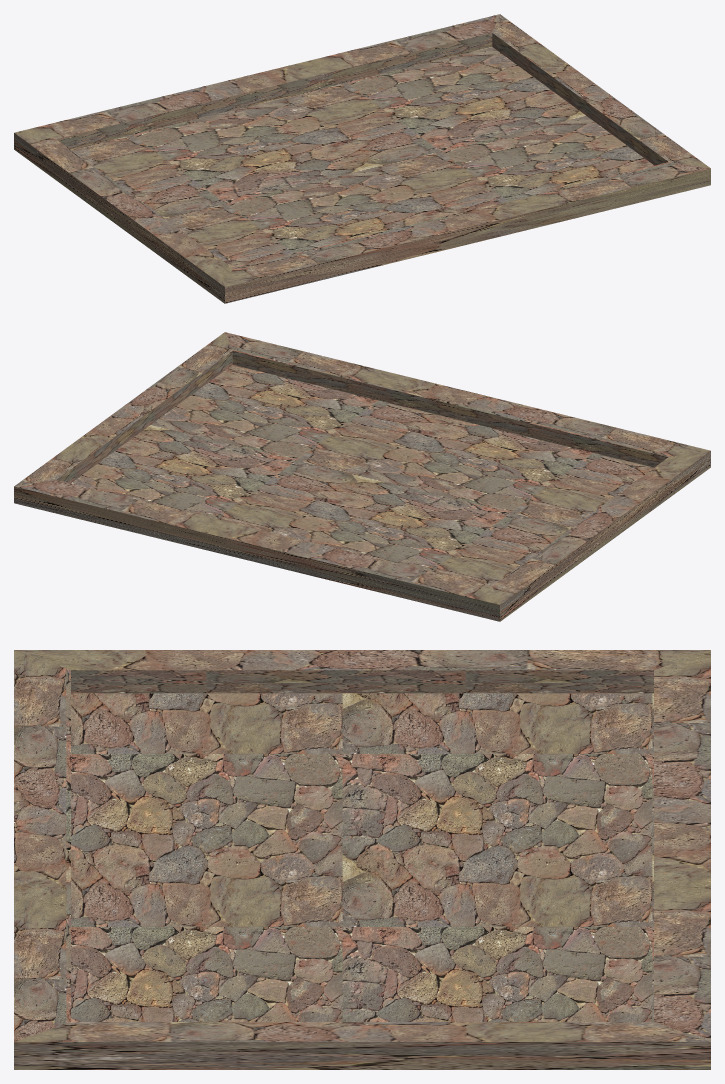
File: fire_pit.dae
3 renders of one model, top to bottom at view 1: azimuth 30°, elevation 25°; view 2: azimuth 150°, elevation 25°; view 3: azimuth 270°, elevation 25°, orthographic. The views are drawn at different scales.
Visible parts, largest first — view 1: Cube; view 2: Cube; view 3: Cube.
Boxes of the visible parts, box(x1,y1,x2,y2) form: Cube: box(14, 14, 710, 303); Cube: box(14, 332, 710, 621); Cube: box(14, 650, 710, 1069).
Bounding box in the file's own units: 6.02 × 4.52 × 0.1993.
1 material, 1 textured.
